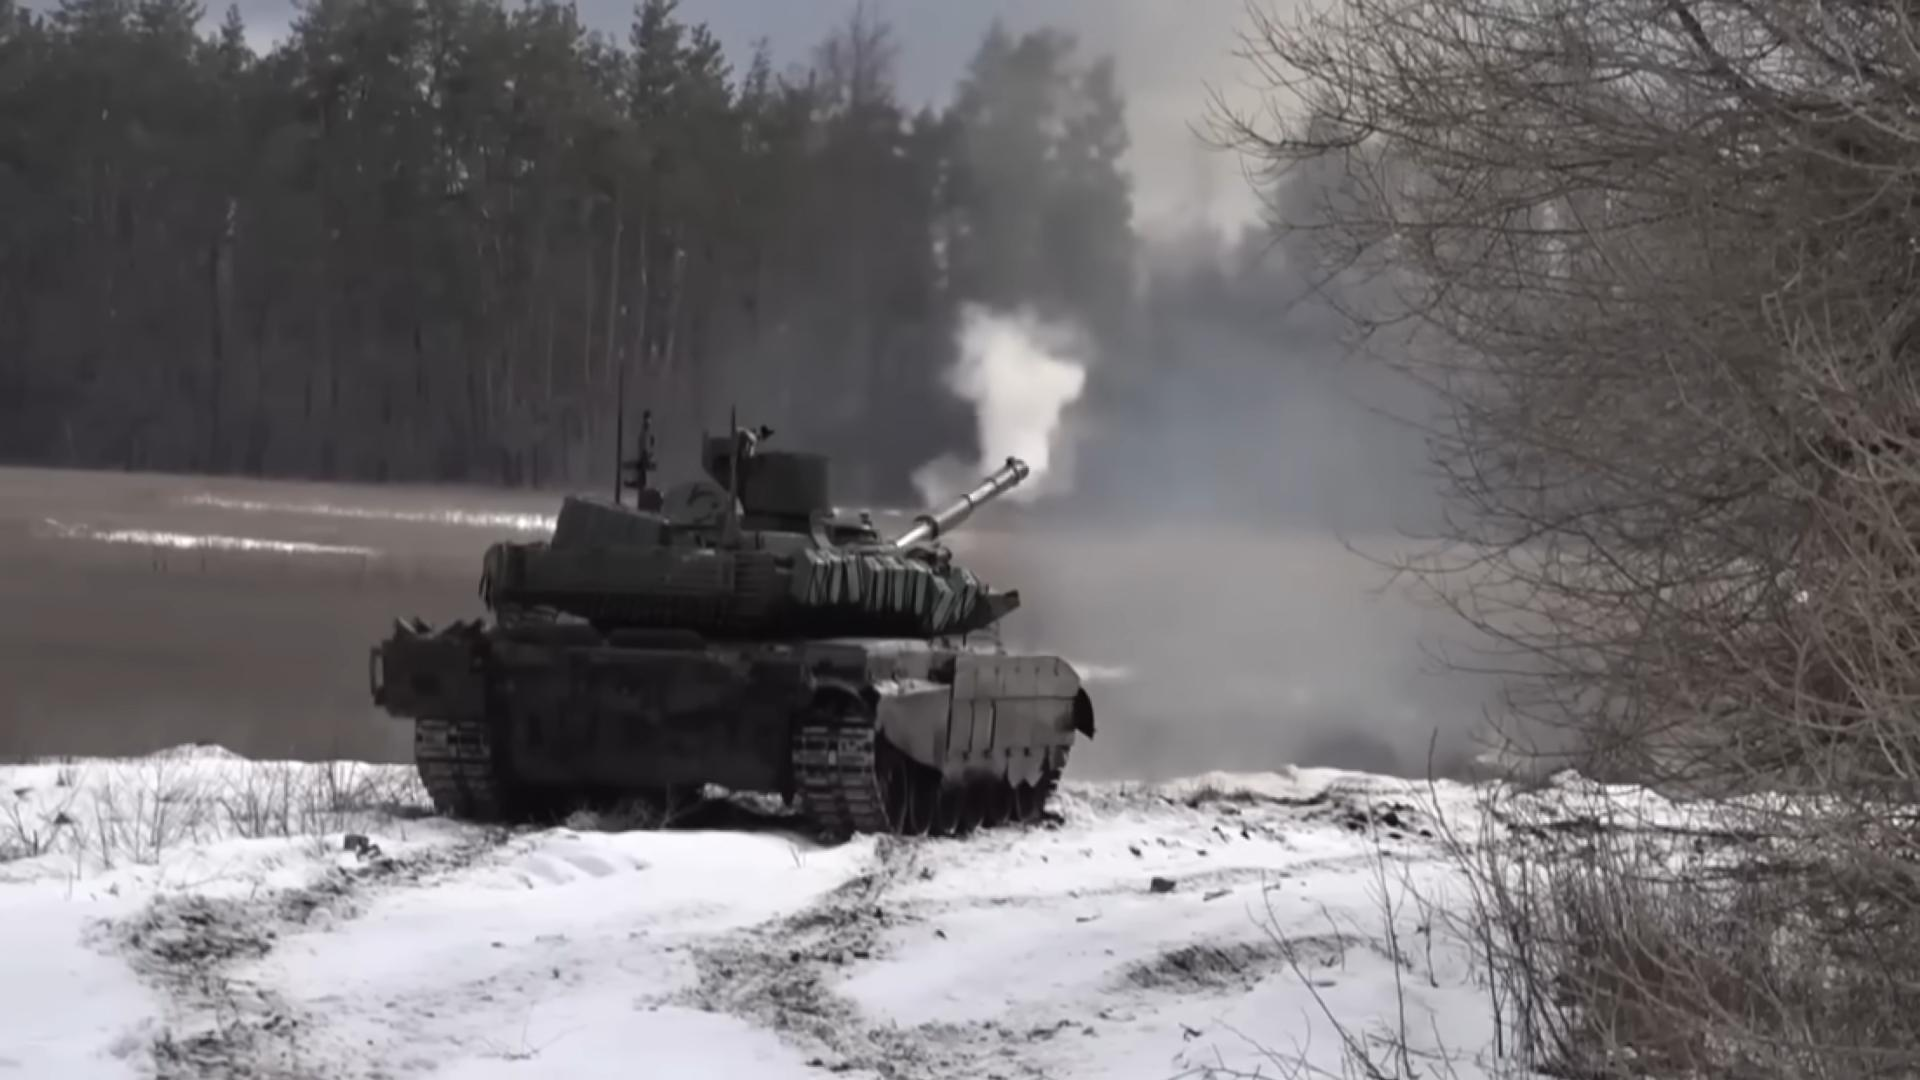tank: (375, 415, 1097, 840)
